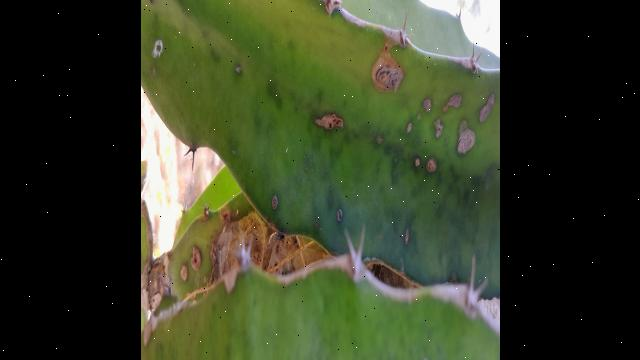stemcanker: (365, 38, 410, 93), (453, 115, 480, 158), (471, 88, 499, 127), (308, 109, 348, 134), (185, 241, 208, 273), (437, 89, 466, 114), (263, 191, 284, 212), (423, 154, 440, 176), (331, 205, 348, 226), (420, 92, 435, 113)
